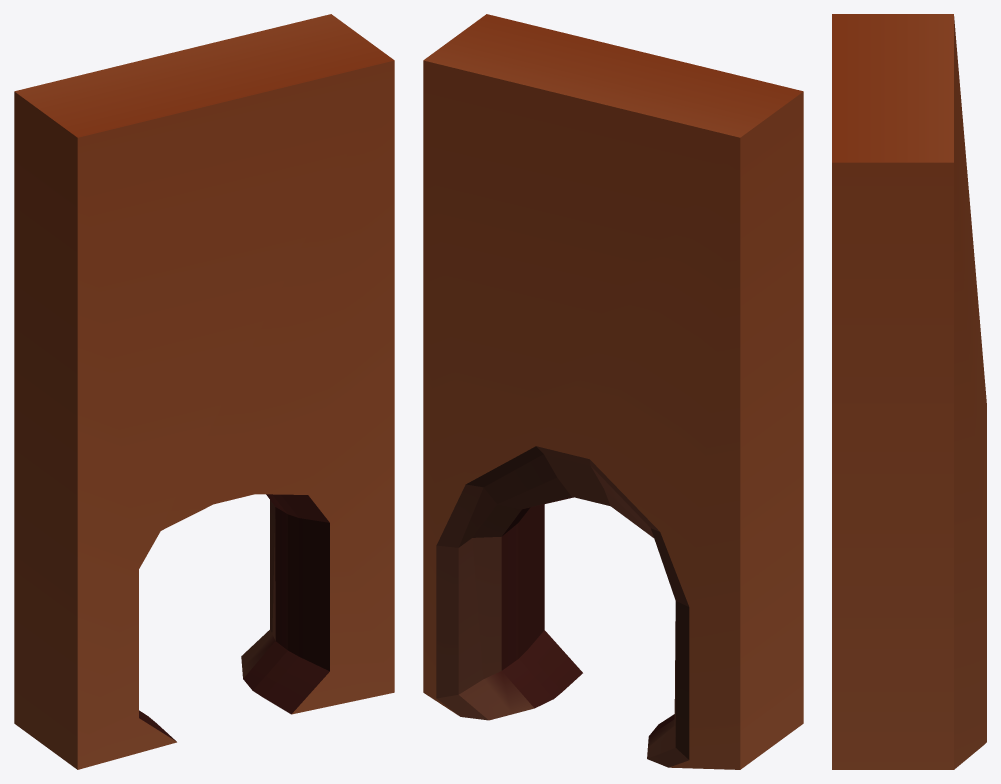
Rendered from WallSmallDoor.fbx.
3 renders of one model, left to right at view 1: azimuth 30°, elevation 25°; view 2: azimuth 150°, elevation 25°; view 3: azimuth 270°, elevation 25°, orthographic. The views are drawn at different scales.
Parts seen in each view (by area): view 1: WallSmallDoor_LOD0; view 2: WallSmallDoor_LOD0; view 3: WallSmallDoor_LOD0.
Boxes of the visible parts, left/top/right/bottom form: WallSmallDoor_LOD0: left=14, top=14, right=394, bottom=769; WallSmallDoor_LOD0: left=423, top=14, right=803, bottom=769; WallSmallDoor_LOD0: left=832, top=14, right=986, bottom=769.
Size of what is drawn, in the model's own units: 241 by 459 by 106.
